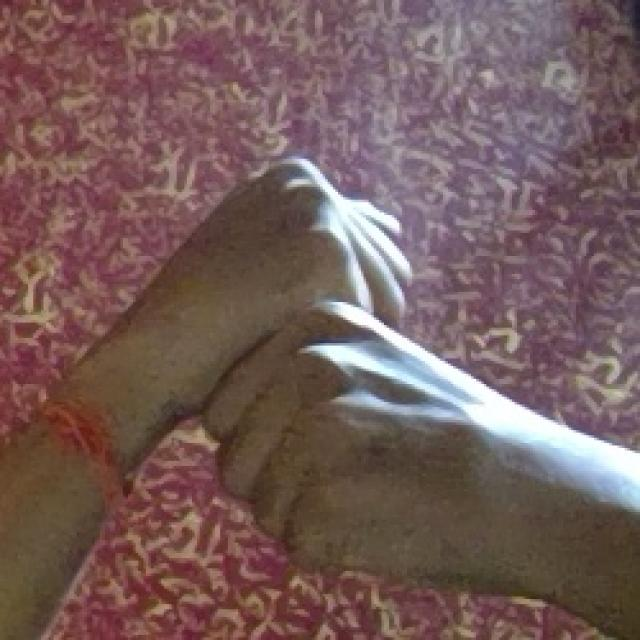Alphabet-g: (155, 135, 586, 635)
